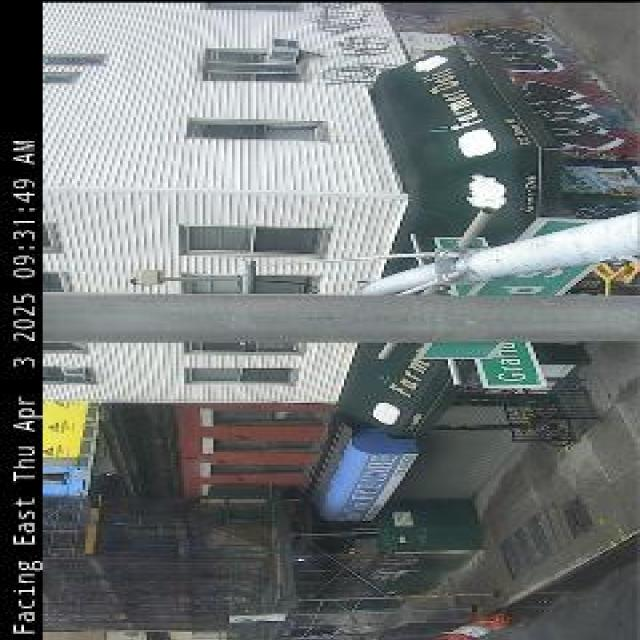open parking: (469, 513, 640, 633)
